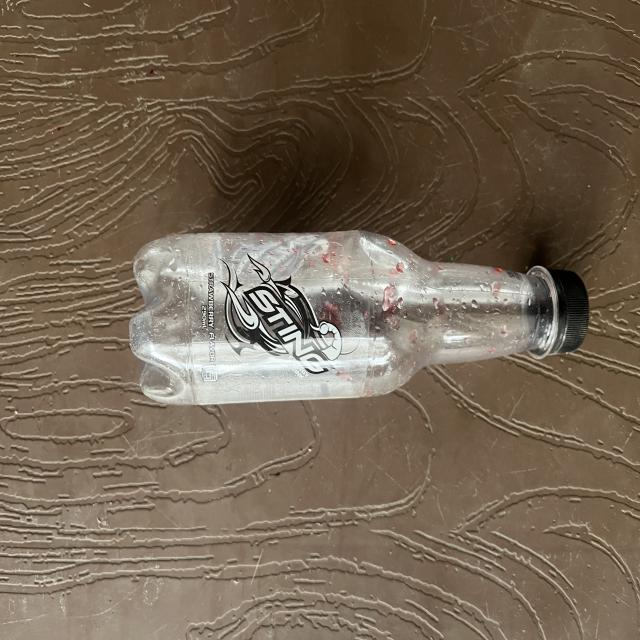REJECT: (132, 228, 578, 415)
